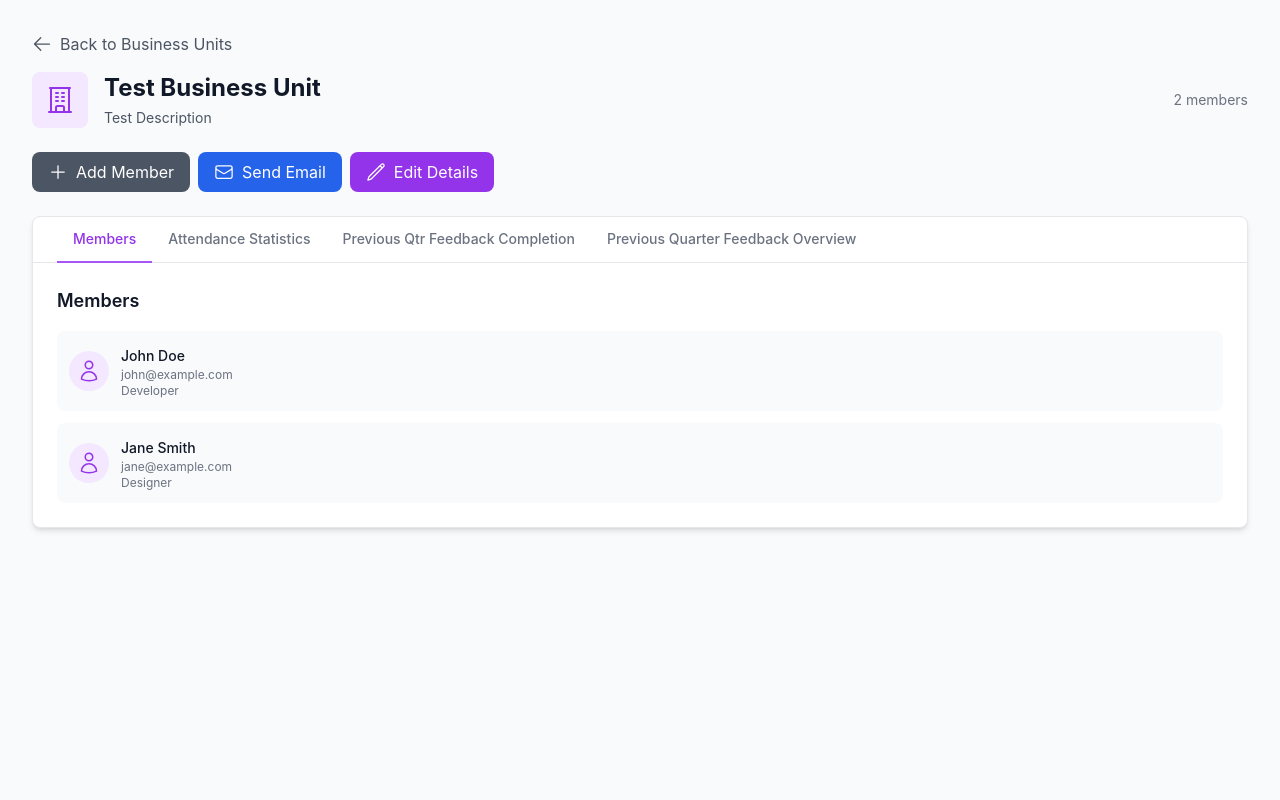
Test case: BusinessUnitDetail › should allow editing business unit details
Expected: the heading "Test Business Unit" is shown, [104,72,321,104]
What coordinates should you click on to do the following:
click the button "Edit Details"
I would click on:
 (422, 172)
Its box is [350,152,494,192].
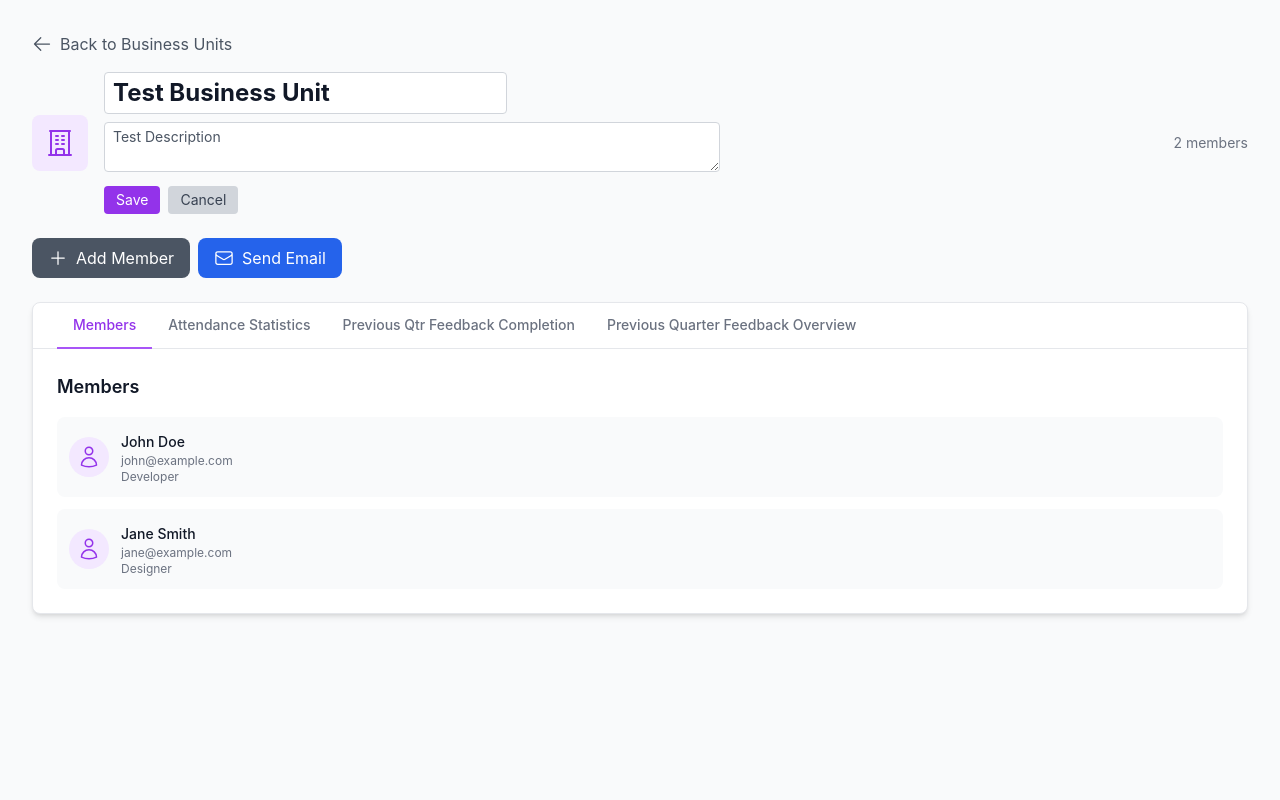
Result: the field showing "Test Business Unit" is shown at [104,72,507,114]
Result: the text box showing "Test Description" is shown at [104,122,720,172]
